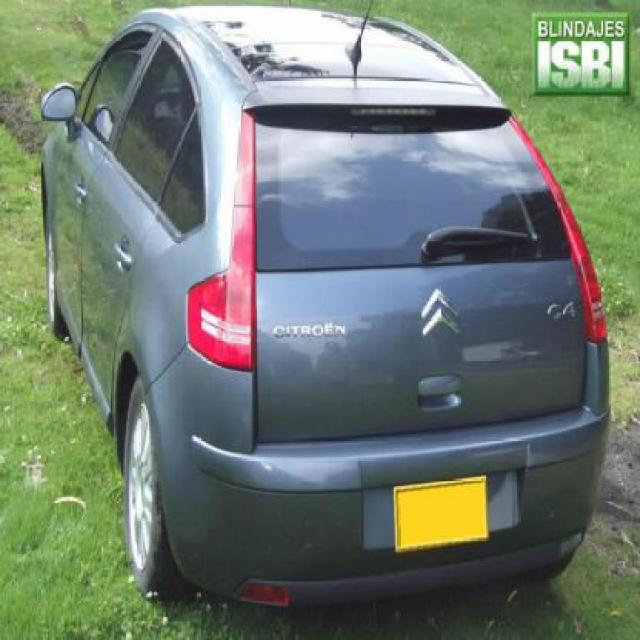License-Plates: (394, 472, 490, 554)
